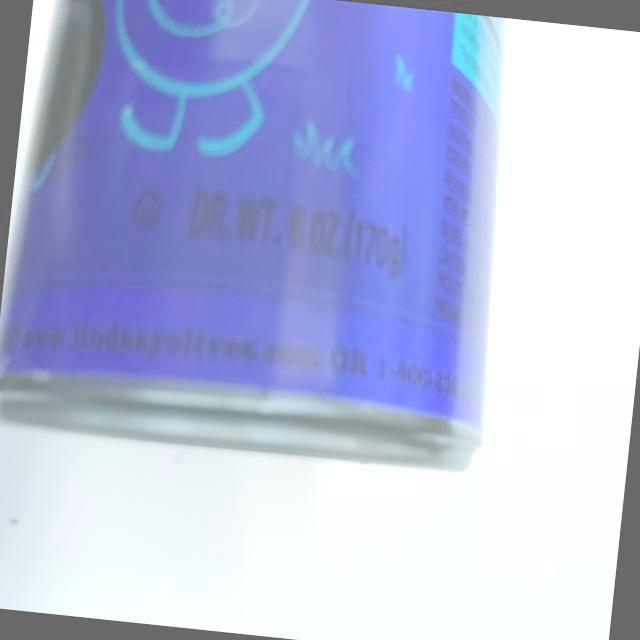metal: (0, 0, 533, 506)
